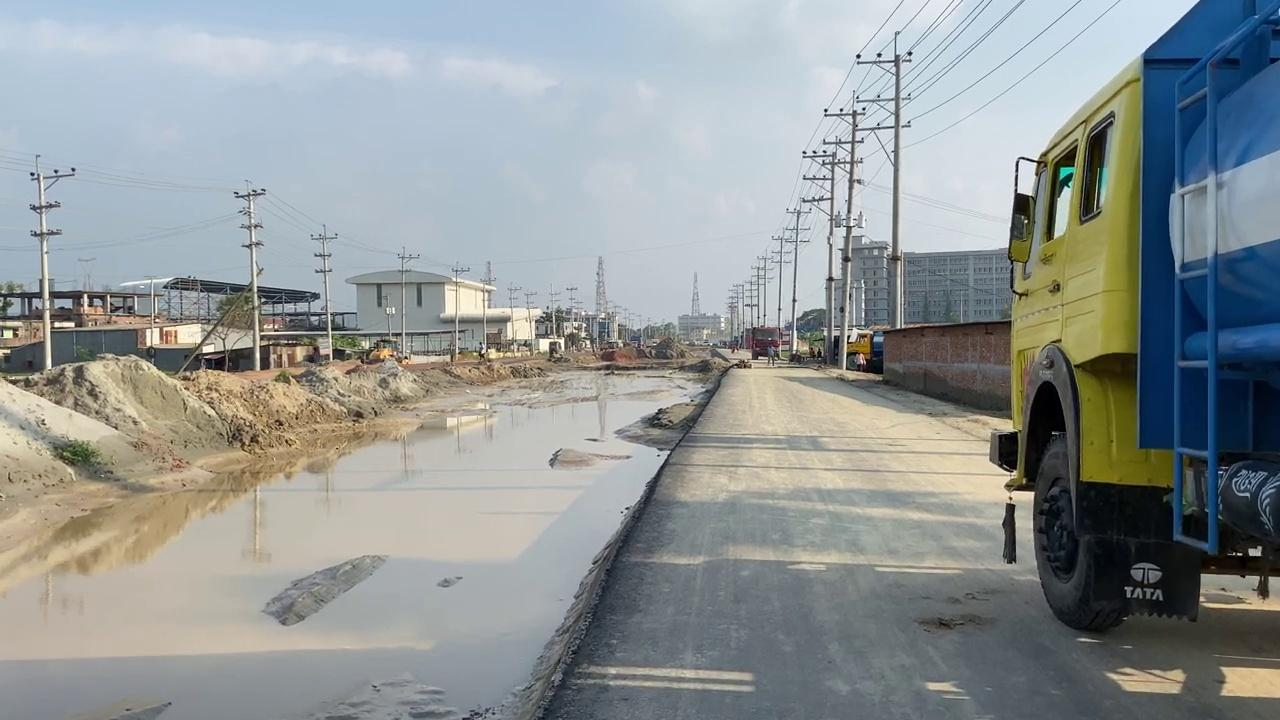Curb: (513, 356, 741, 716)
Dog: (1000, 501, 1016, 564)
Pole: (27, 153, 75, 370), (888, 31, 911, 328), (233, 181, 266, 370), (310, 224, 337, 361), (396, 246, 419, 357), (450, 263, 469, 362)
Rickshaw: (536, 355, 1278, 718)
Sidewalk: (1, 361, 718, 718)
Tree: (987, 0, 1279, 632), (362, 338, 410, 365), (750, 326, 782, 359), (599, 339, 636, 362), (547, 340, 570, 363)
Upstairs: (880, 318, 1012, 412)
